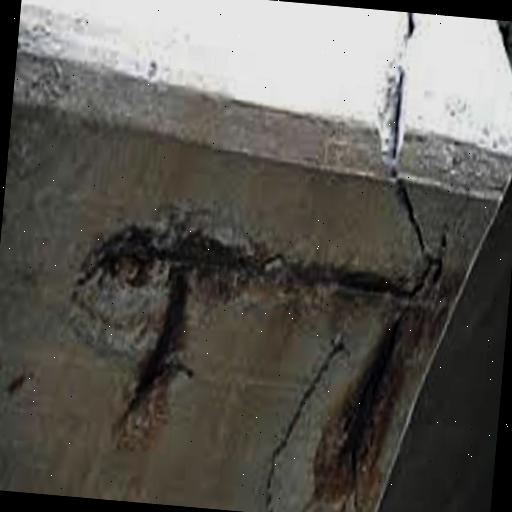spalling: (66, 219, 453, 501), (249, 327, 356, 510), (366, 16, 437, 248)
